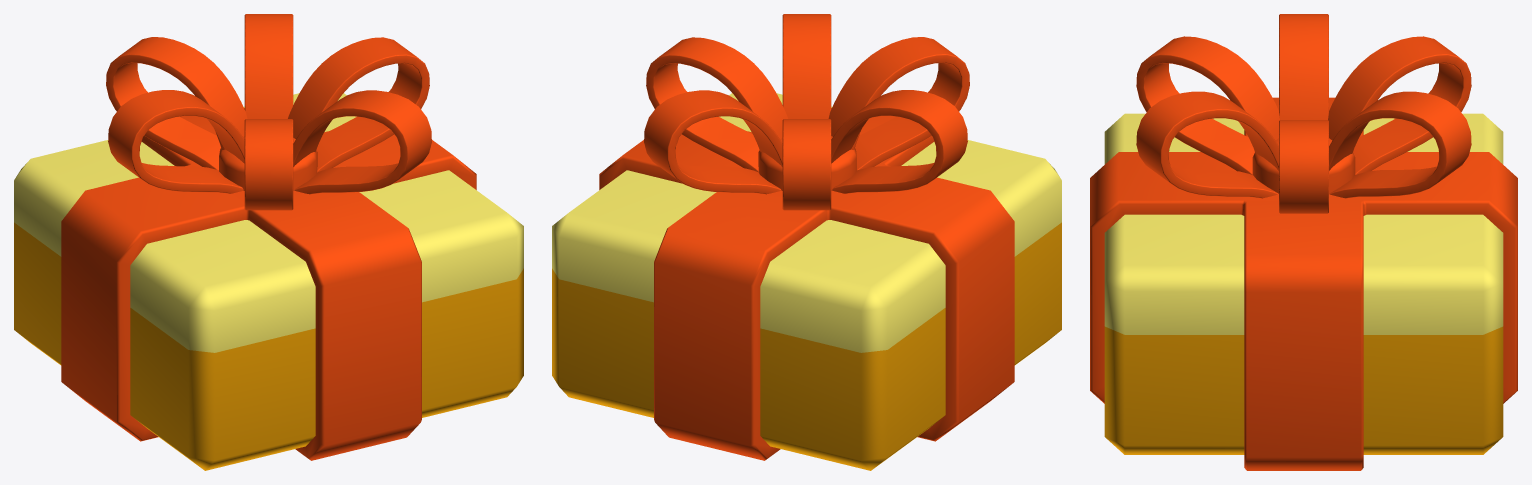
The model's file is Public_6_Present_3.glb.
3 renders of one model, left to right at view 1: azimuth 30°, elevation 25°; view 2: azimuth 150°, elevation 25°; view 3: azimuth 270°, elevation 25°, orthographic. The views are drawn at different scales.
Parts seen in each view (by area): view 1: Public_6_Present_3; view 2: Public_6_Present_3; view 3: Public_6_Present_3.
Boxes of the visible parts, left/top/right/bottom form: Public_6_Present_3: left=14, top=14, right=523, bottom=470; Public_6_Present_3: left=552, top=14, right=1061, bottom=470; Public_6_Present_3: left=1090, top=14, right=1517, bottom=470.
Bounding box in the file's own units: 1.07 × 0.8766 × 1.07.
Materials: 1 (1 with a texture image).
